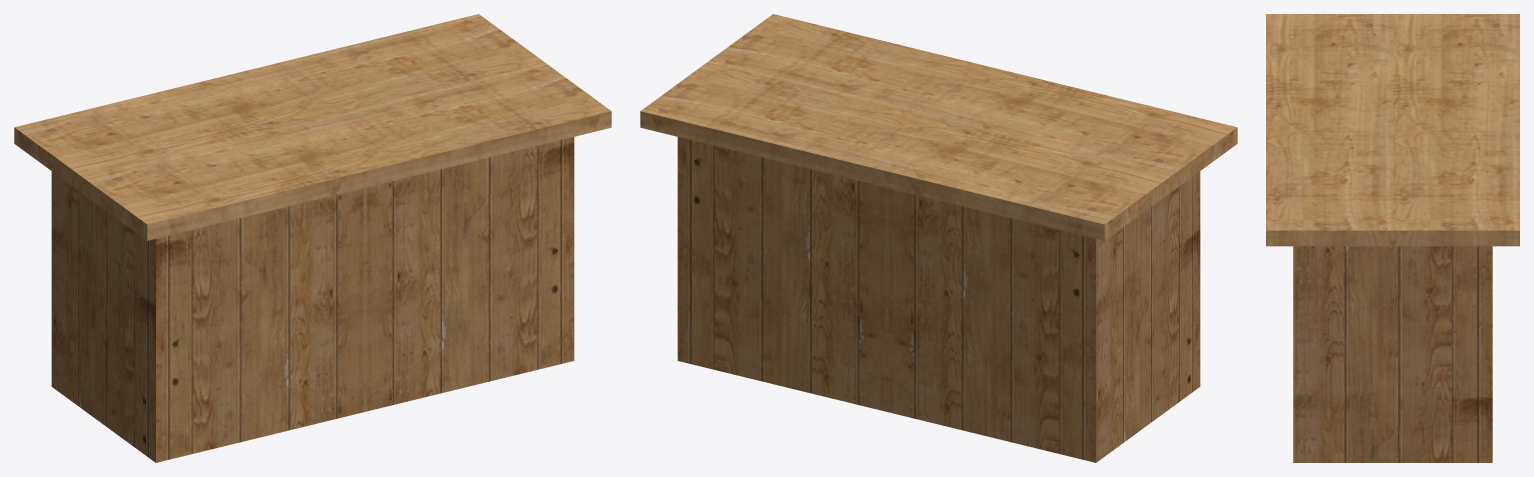
The model's file is Prop_Jsjz01.glb.
The picture shows the model from 3 angles, left to right: view 1: azimuth 30°, elevation 25°; view 2: azimuth 150°, elevation 25°; view 3: azimuth 270°, elevation 25°; orthographic projection. The views are drawn at different scales.
Parts seen in each view (by area): view 1: xiutz_jsjz_01; view 2: xiutz_jsjz_01; view 3: xiutz_jsjz_01.
Boxes of the visible parts, left/top/right/bottom form: xiutz_jsjz_01: left=14, top=14, right=611, bottom=462; xiutz_jsjz_01: left=640, top=14, right=1237, bottom=462; xiutz_jsjz_01: left=1266, top=14, right=1519, bottom=462.
Bounding box in the file's own units: 2.57 × 1.35 × 1.27.
Materials: 1 (1 with a texture image).
